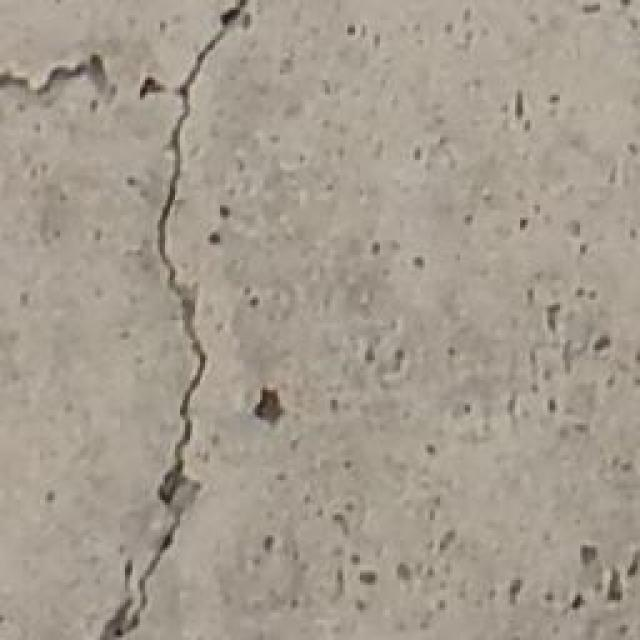concrete-crack: (98, 0, 252, 640), (0, 55, 108, 95), (248, 382, 288, 428)
